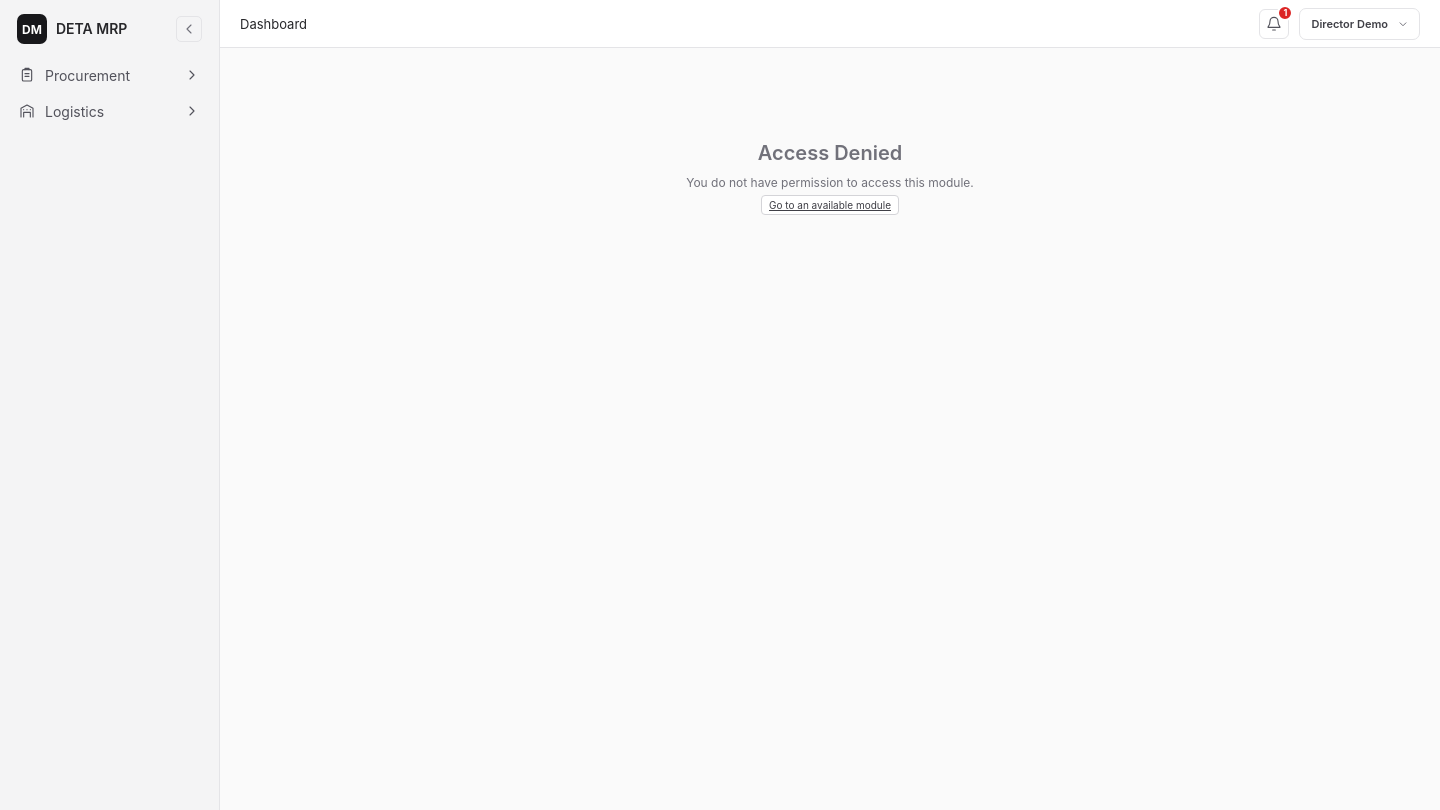
AppShell › ignores and aborts stale notification refreshes
Expected: the text with test id "notification-badge" reads "1", [1284,7,1287,18]
Step 1. Click the button named "Notifications" → coordinates (1274, 24), box [1260,8,1290,38]
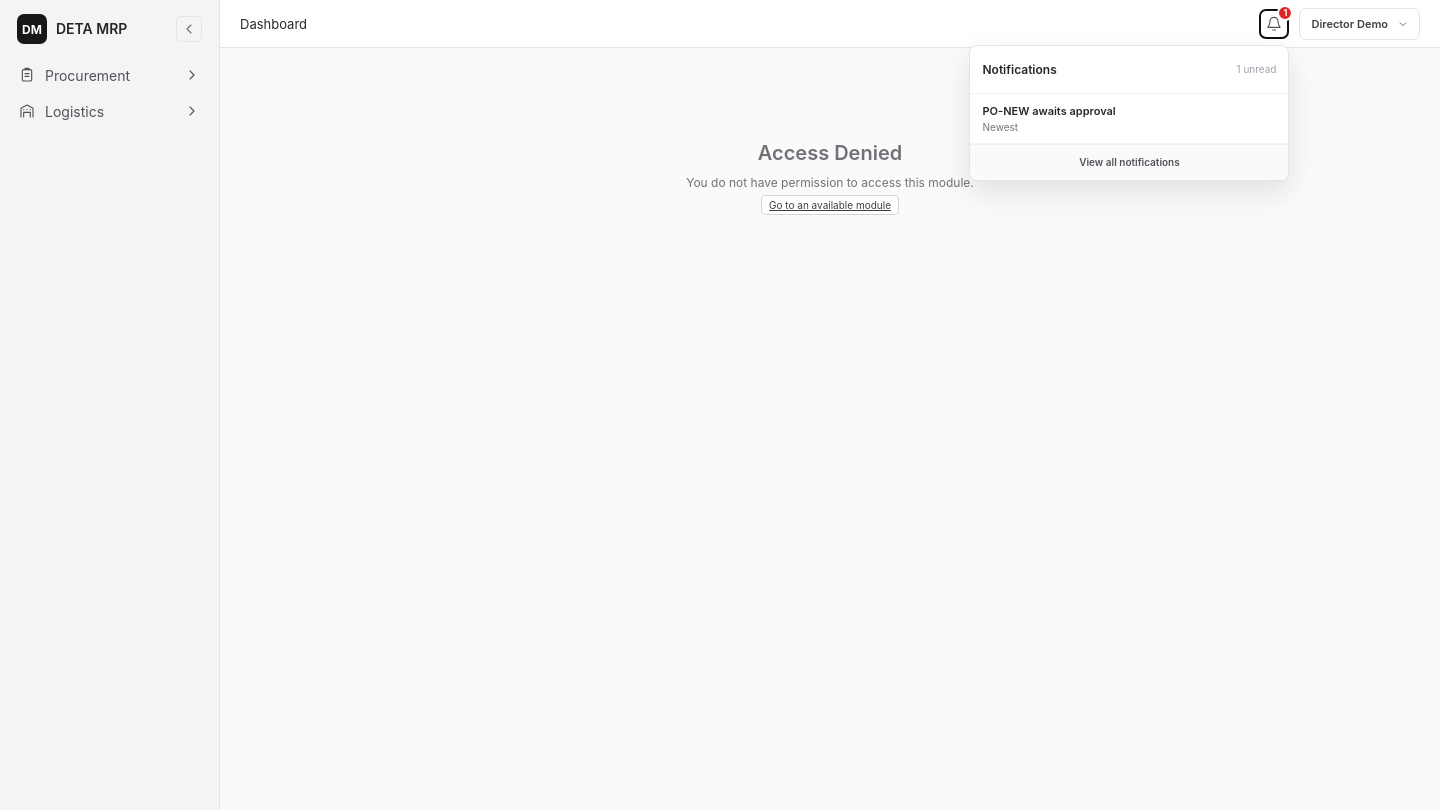
Expected: the text "PO-NEW awaits approval" is shown, [982,104,1116,118]
